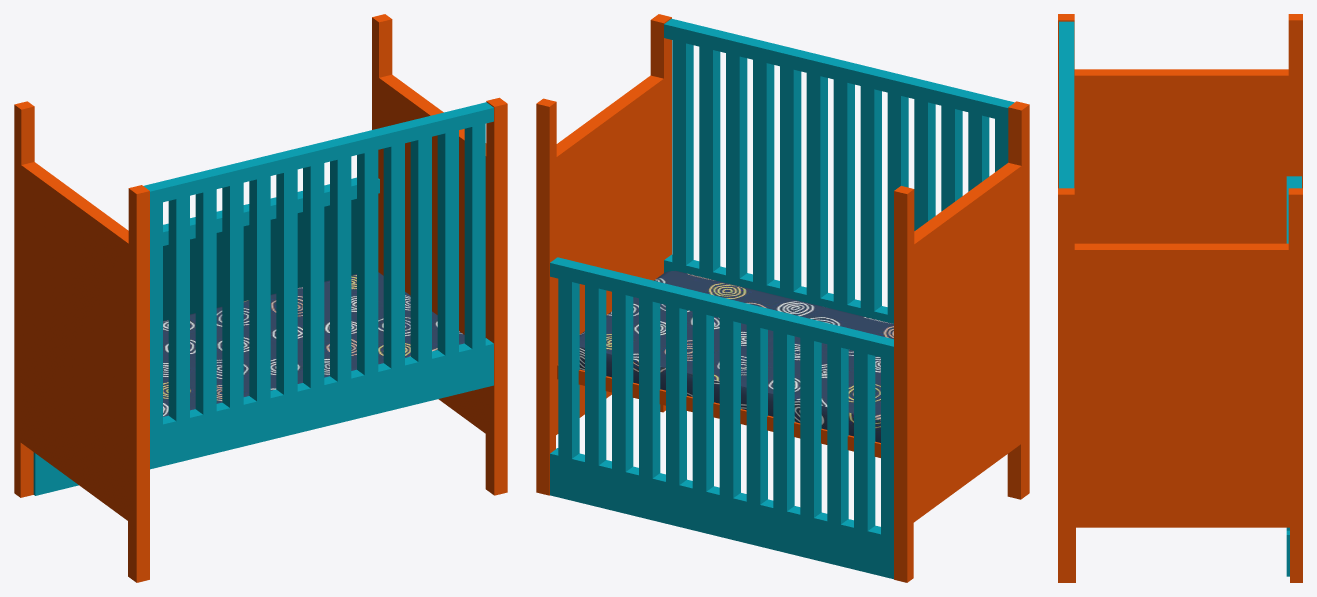
The model's file is Crib.fbx.
The picture shows the model from 3 angles, left to right: view 1: azimuth 30°, elevation 25°; view 2: azimuth 150°, elevation 25°; view 3: azimuth 270°, elevation 25°; orthographic projection.
Visible parts, largest first — view 1: Box034, pCube1, Box033; view 2: Box034, Box033, pCube1; view 3: Box034, Box033.
Part boxes in pixels (x1,y1,x2,y2): Box034: [14, 14, 507, 582]; pCube1: [163, 272, 464, 416]; Box033: [33, 177, 379, 495]; Box034: [536, 14, 1029, 582]; Box033: [550, 257, 893, 579]; pCube1: [579, 270, 893, 442]; Box034: [1058, 14, 1302, 582]; Box033: [1286, 176, 1301, 576].
Bounding box in the file's own units: 140 × 140 × 80.
